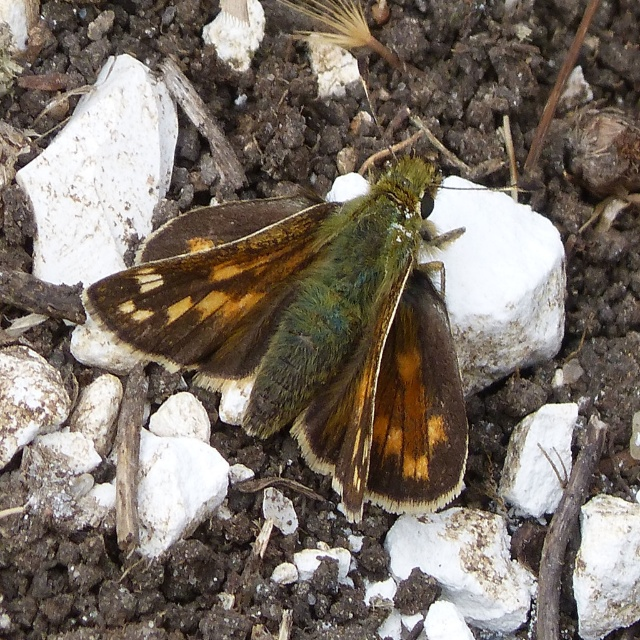Butterfly: (81, 77, 546, 523)
